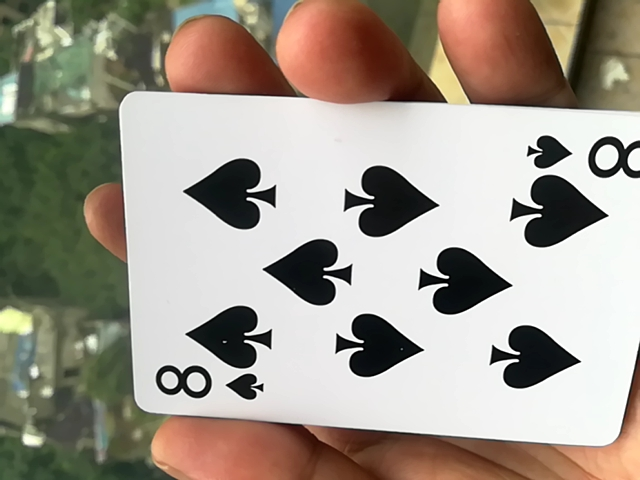ht 8: (113, 94, 634, 457)
